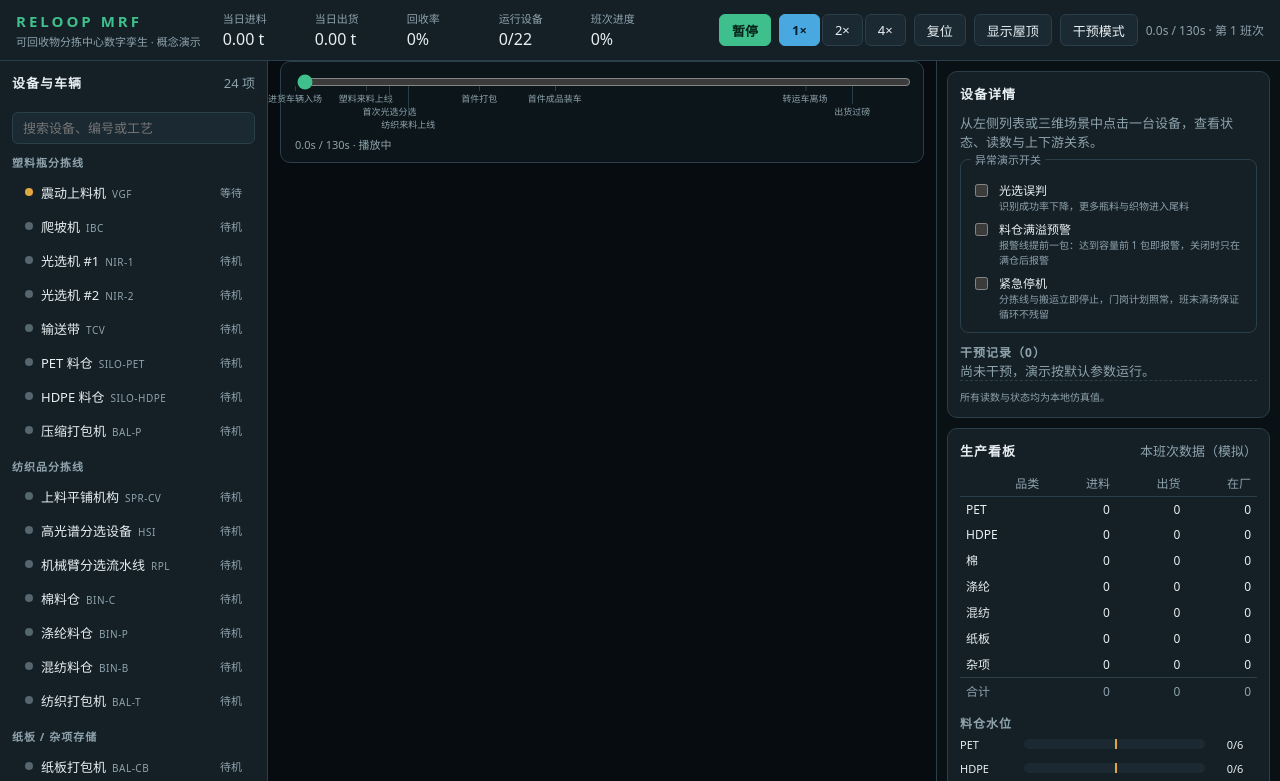
Test: 整机联动 › 异常演示开关从面板一路传到顶栏与仿真状态
The image size is (1280, 781).
Step 1. Click the button "暂停" → (745, 30), box [719, 14, 771, 46]
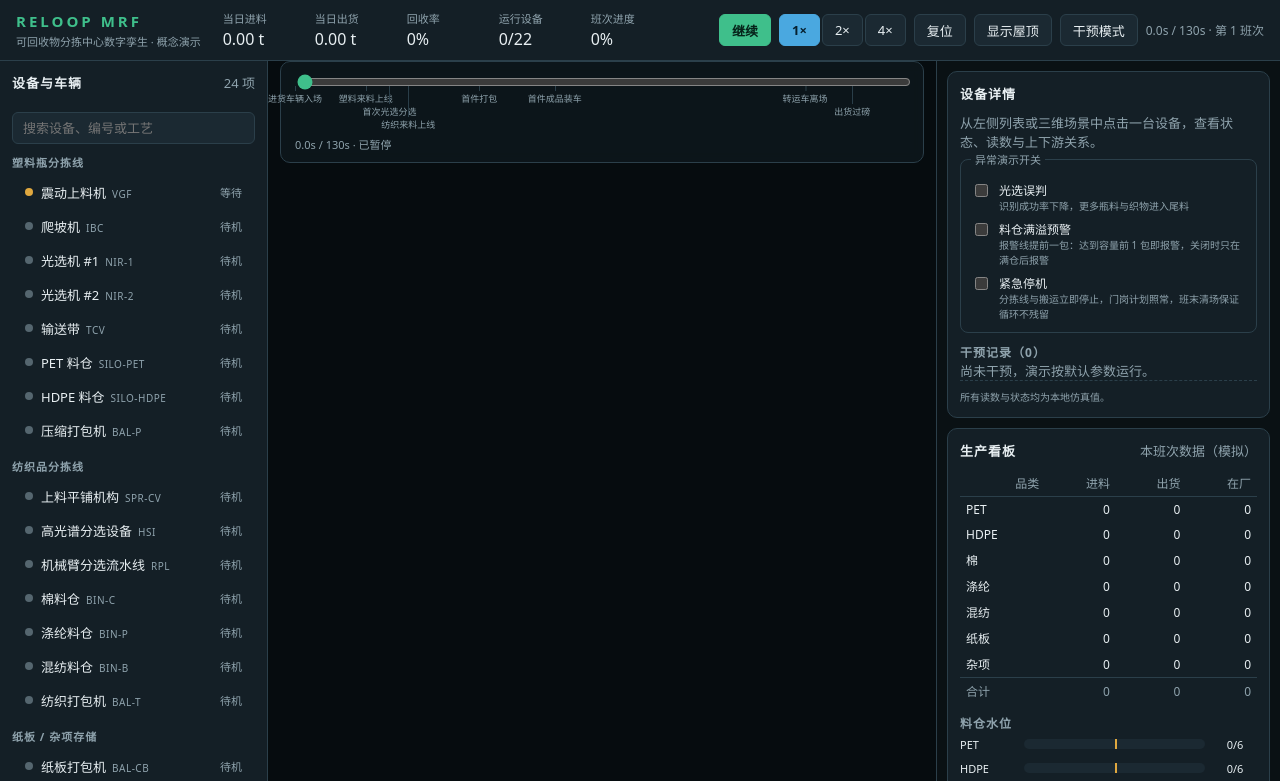
Expected: the text "紧急停机已启用" is not shown
Step 2. Click the checkbox labelled "紧急停机 分拣线与搬运立即停止，门岗计划照常，班末清场保证循环不残留" → (982, 284), box [975, 277, 988, 290]
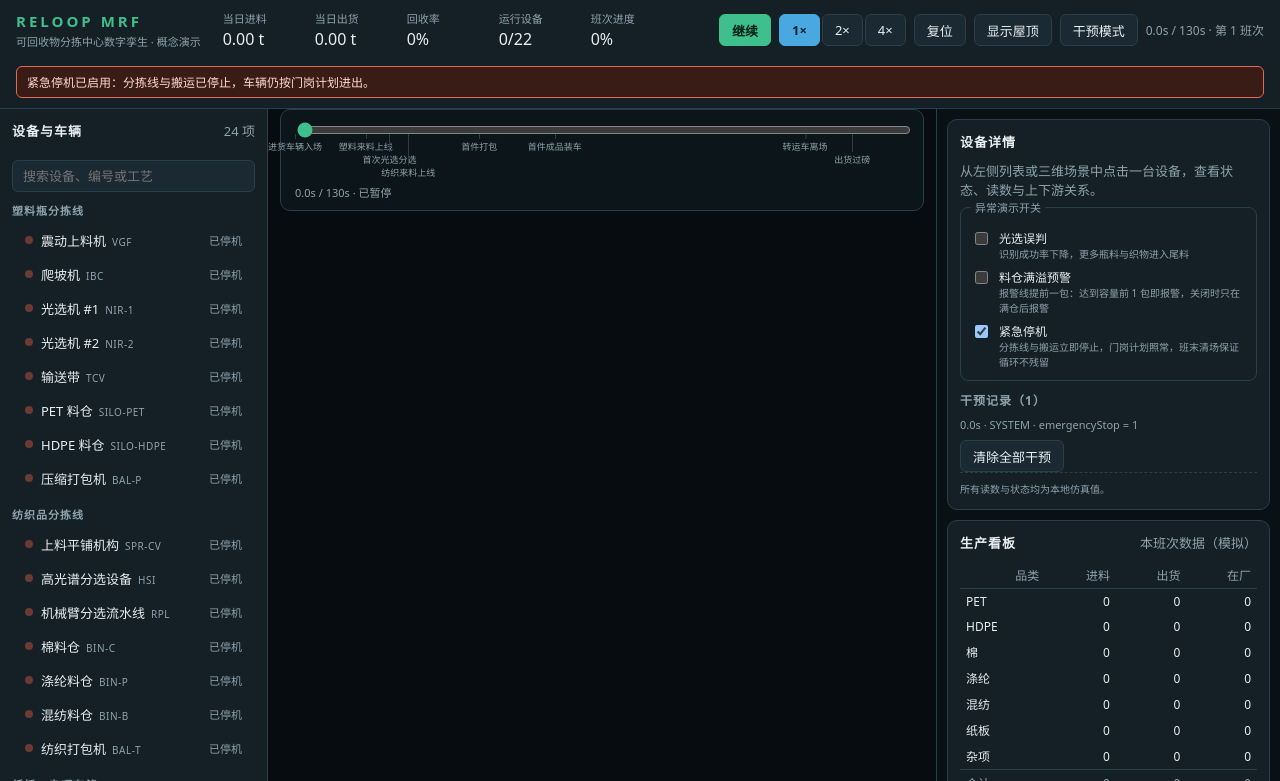
Now the message shows "紧急停机已启用", box [27, 74, 375, 91]
Step 3. Click the checkbox labelled "紧急停机 分拣线与搬运立即停止，门岗计划照常，班末清场保证循环不残留" → (982, 332), box [975, 325, 988, 338]
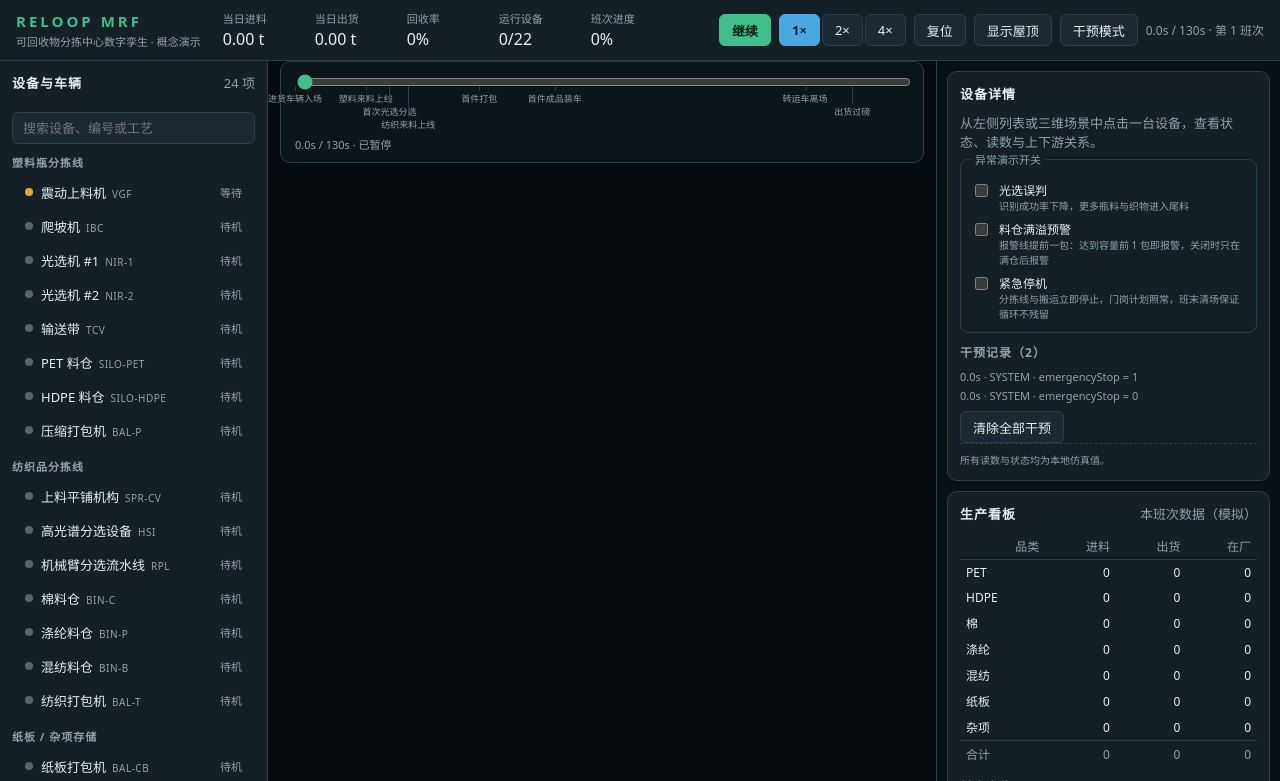
Now the text "紧急停机已启用" is gone
